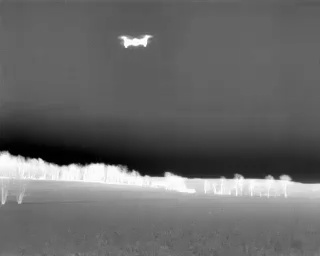DRONE: (115, 29, 156, 54)
